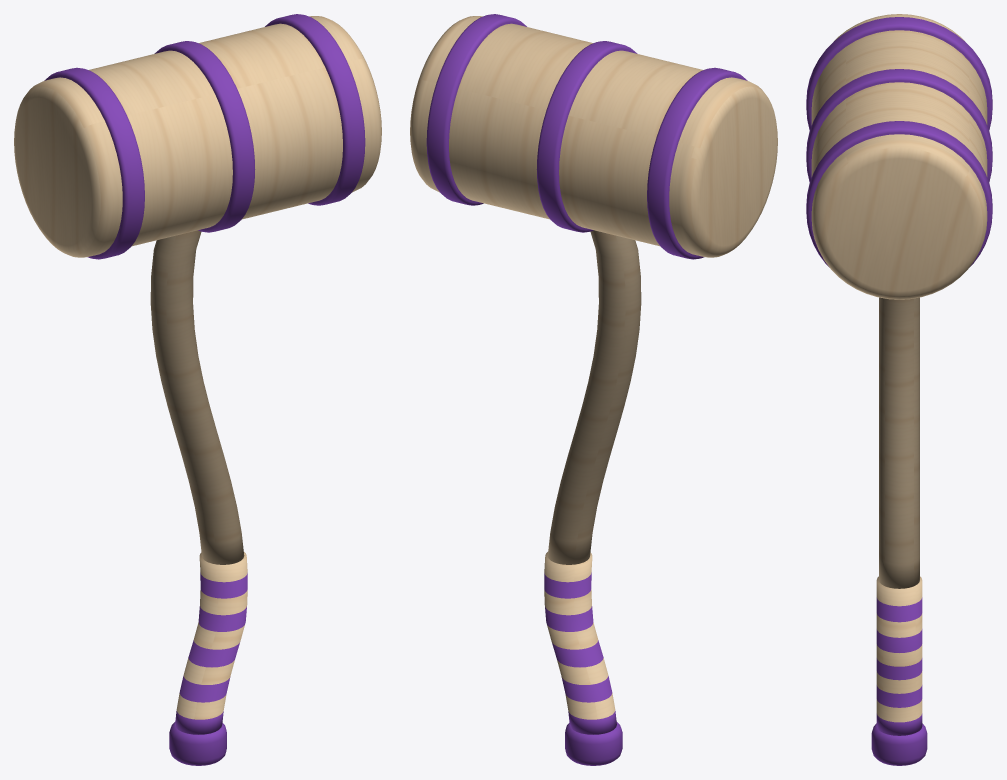
Rendered from hammer_hebidaru.fbx.
The picture shows the model from 3 angles, left to right: view 1: azimuth 30°, elevation 25°; view 2: azimuth 150°, elevation 25°; view 3: azimuth 270°, elevation 25°; orthographic projection. The views are drawn at different scales.
Visible parts, largest first — view 1: hebidaru_hammer; view 2: hebidaru_hammer; view 3: hebidaru_hammer.
Part boxes in pixels (x1,y1,x2,y2): hebidaru_hammer: [14, 14, 381, 765]; hebidaru_hammer: [410, 14, 777, 765]; hebidaru_hammer: [806, 14, 992, 765].
Size of the model in its own units: 1.1 by 2.58 by 0.636.
Materials: 5 (3 with a texture image).
